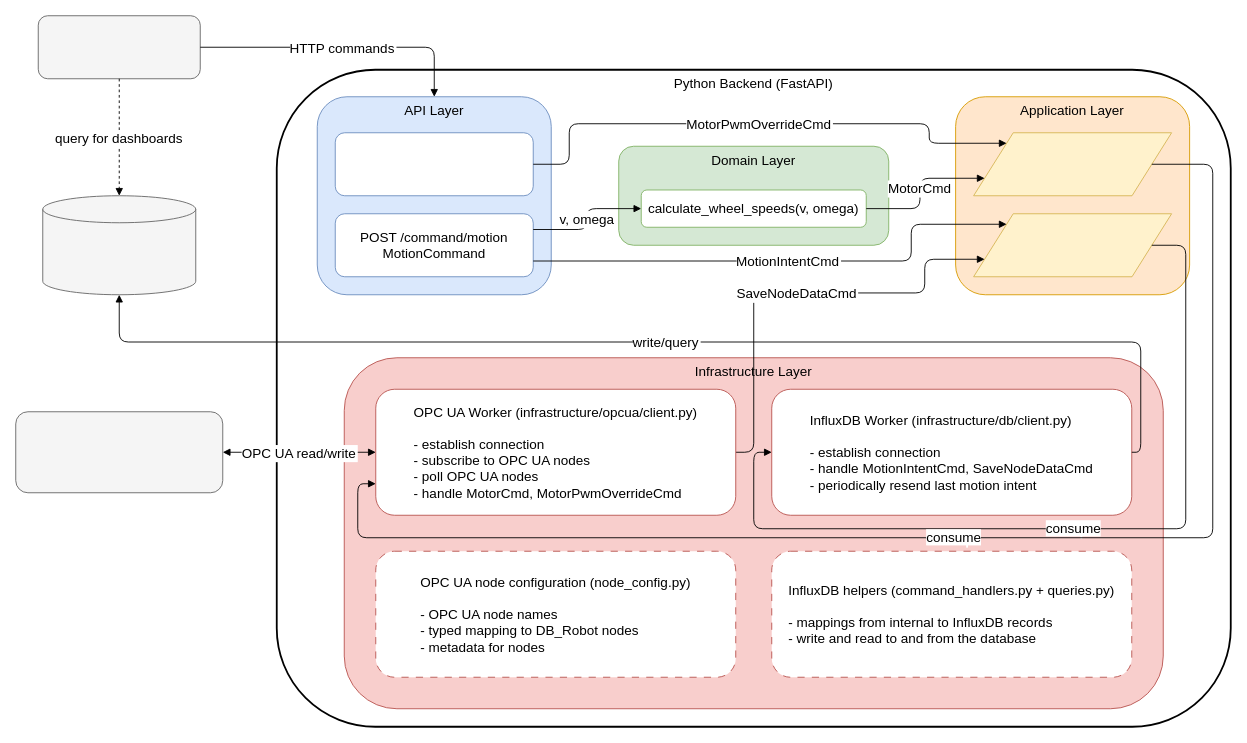
Some shapes in this 1247 by 743 pixel diagram are drawn without their labels. The centre of each missing label's shape, as x and y in pixels:
Grafana + Browser: (118,47)
InfluxDB: (119,245)
PLC OPC UA Server (DB_Robot.MotorControls): (119,452)
POST /command/pwm_override PwmOverrideCommand: (433,164)
Queue: to_db: (1072,245)
Queue: to_opc_ua: (1072,164)
